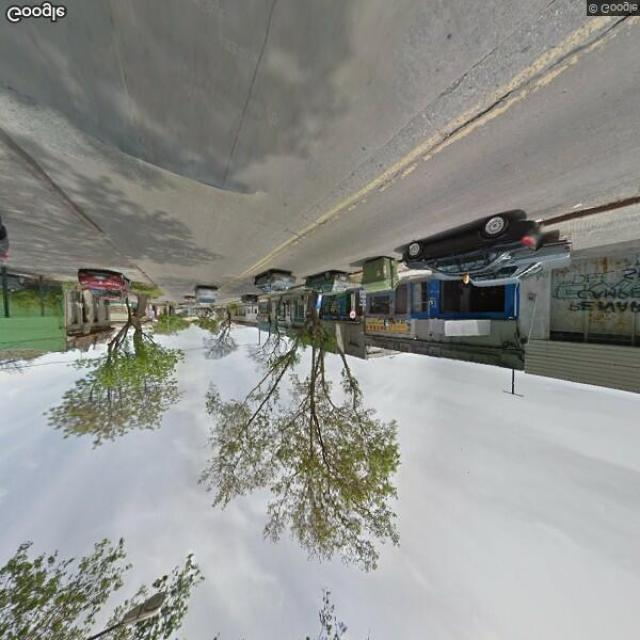garbage container: (357, 253, 407, 302)
